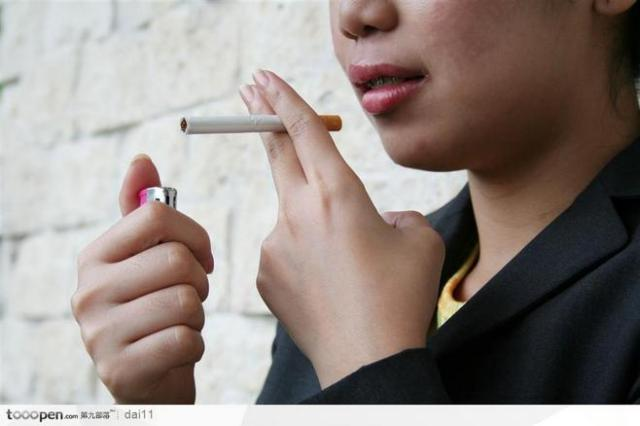Cigarette: (174, 108, 346, 136)
